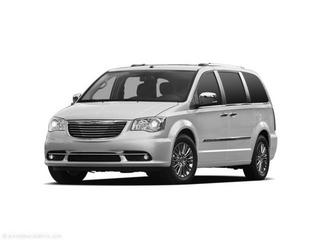car: (45, 64, 278, 182)
